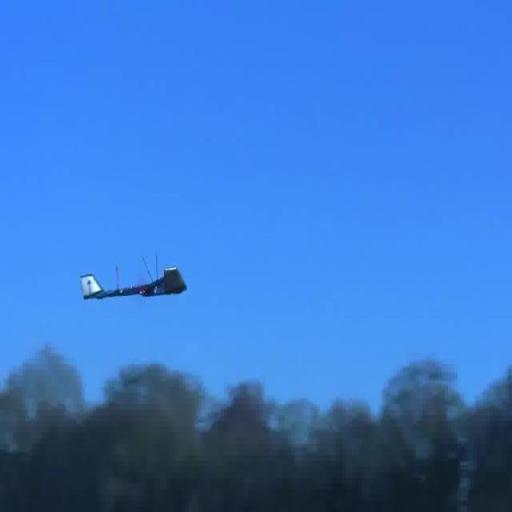uav: (76, 252, 194, 327)
